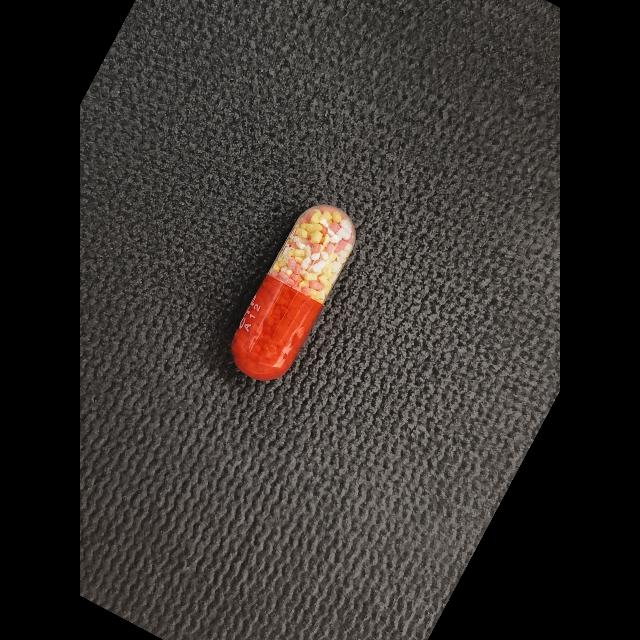Intact Capsule: (232, 205, 356, 380)
